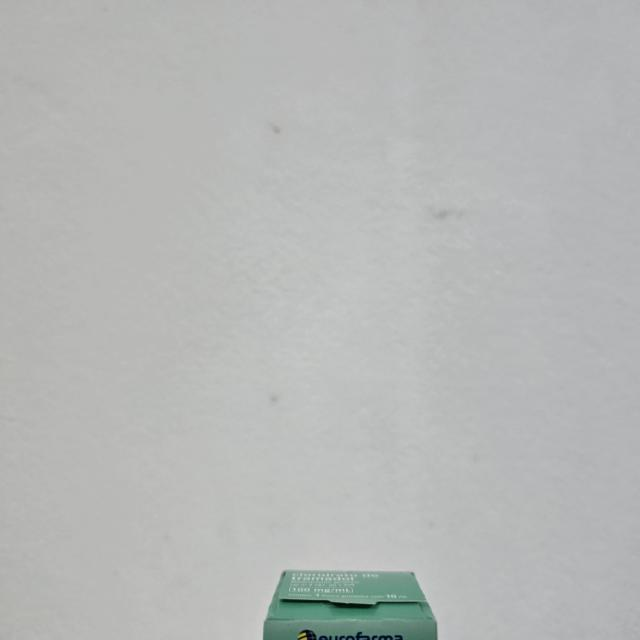tramadol: (258, 561, 440, 640)
